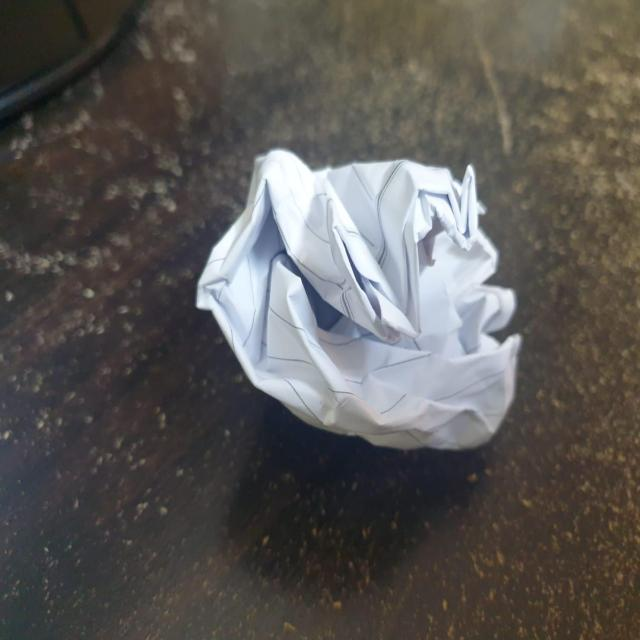kertas: (188, 134, 538, 458)
